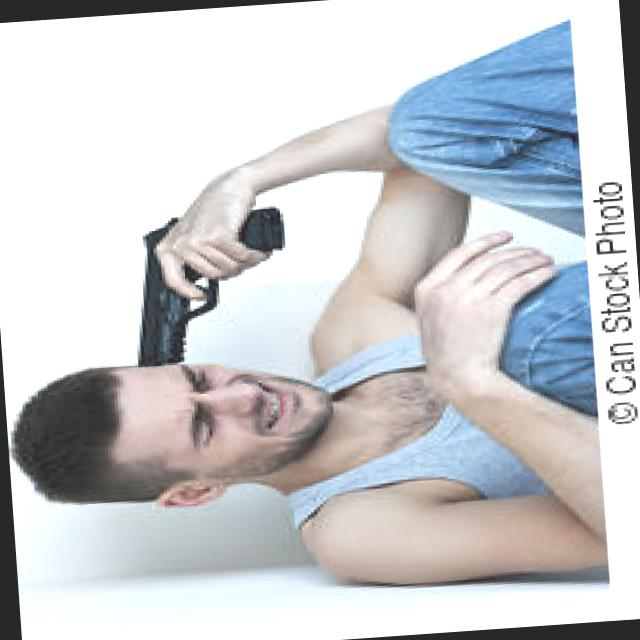handgun: (114, 208, 290, 372)
